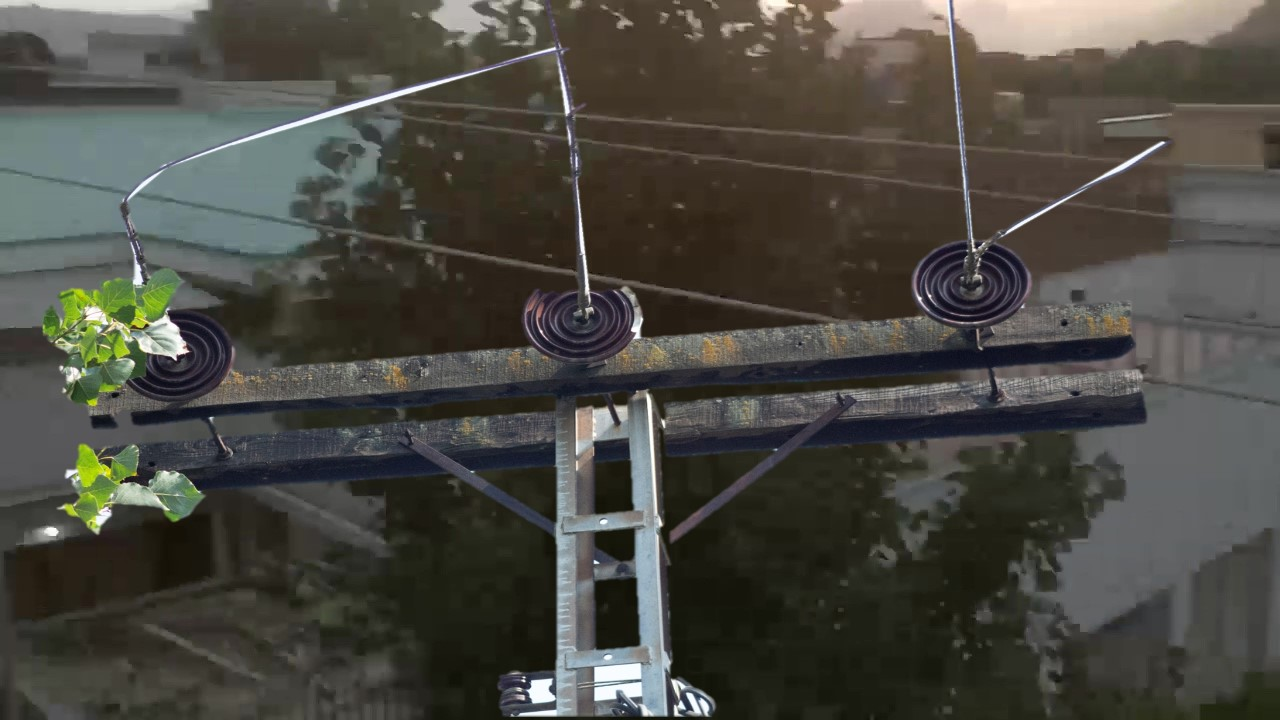defect_disc: (518, 269, 651, 363)
insulator_disc: (909, 234, 1037, 335), (130, 316, 245, 405)
